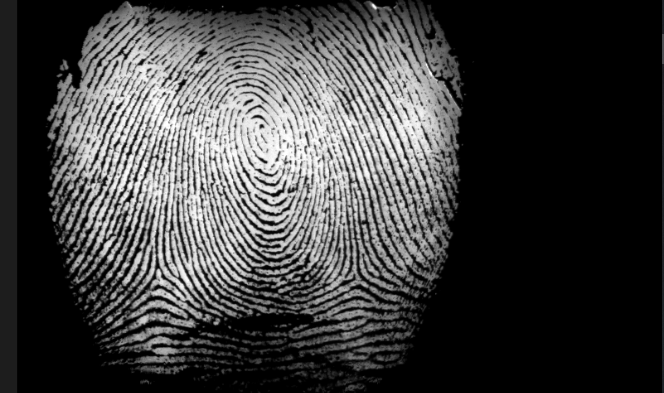nucelo: (237, 113, 284, 165)
verticilo: (141, 261, 179, 299), (341, 261, 373, 296)
